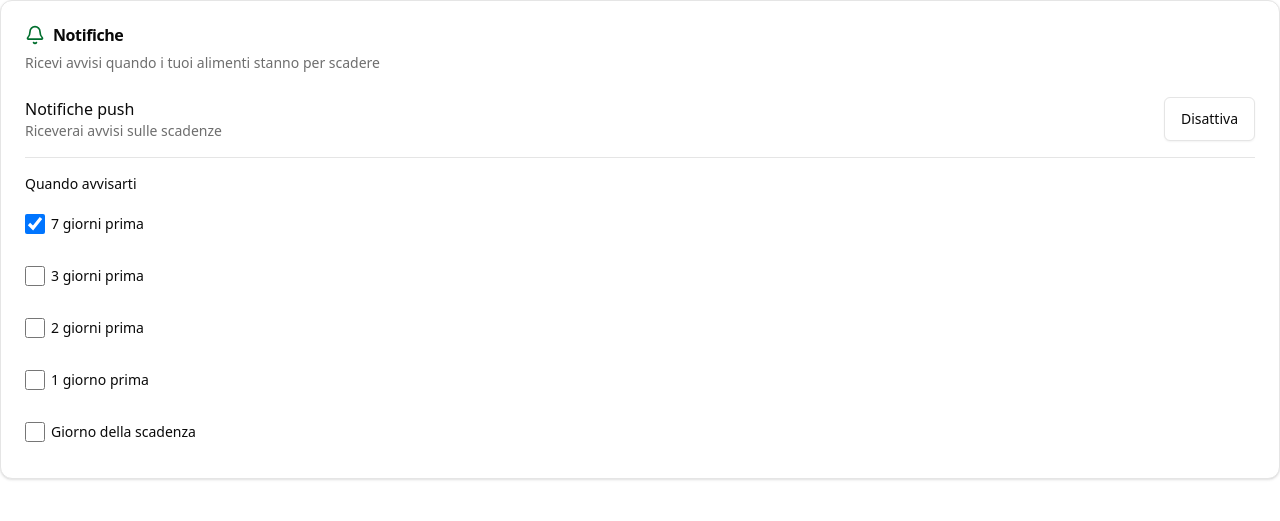
Test case: NotificationSettings — intervalli di avviso › togliere l’ultimo intervallo non salva e mostra l’avviso (salvaguardia non silenziosa)
Click the checkbox labelled "7 giorni prima".
click(35, 224)  # box x1=25 y1=214 x2=45 y2=234
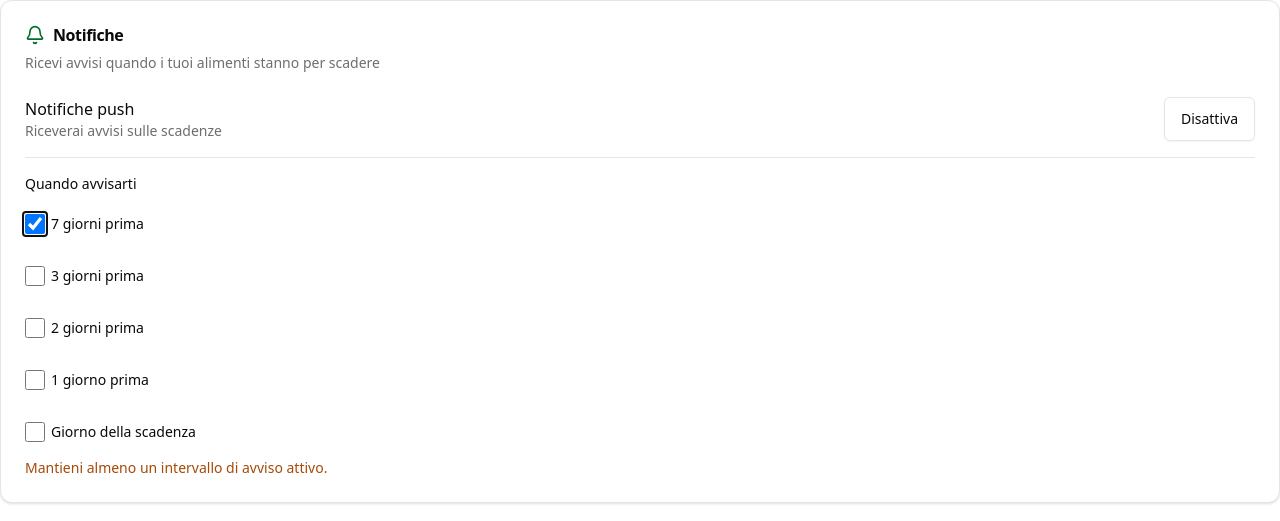
Expected: the message shows "almeno un intervallo", x1=25 y1=458 x2=327 y2=477
